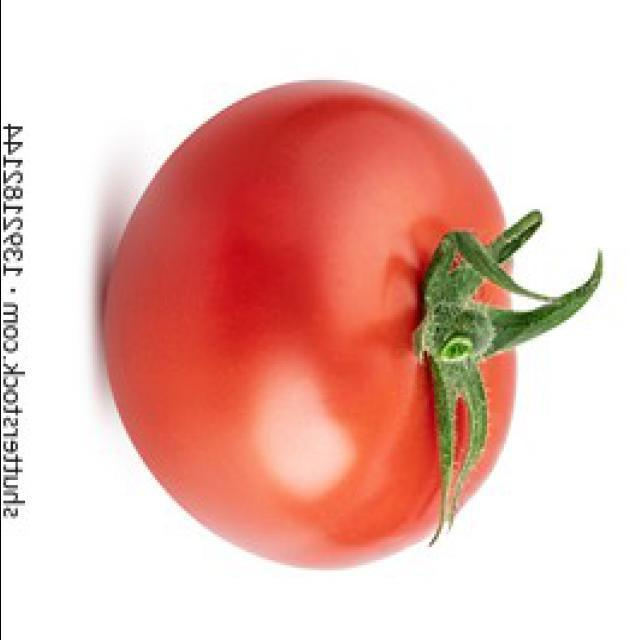Tomato: (99, 79, 604, 573)
